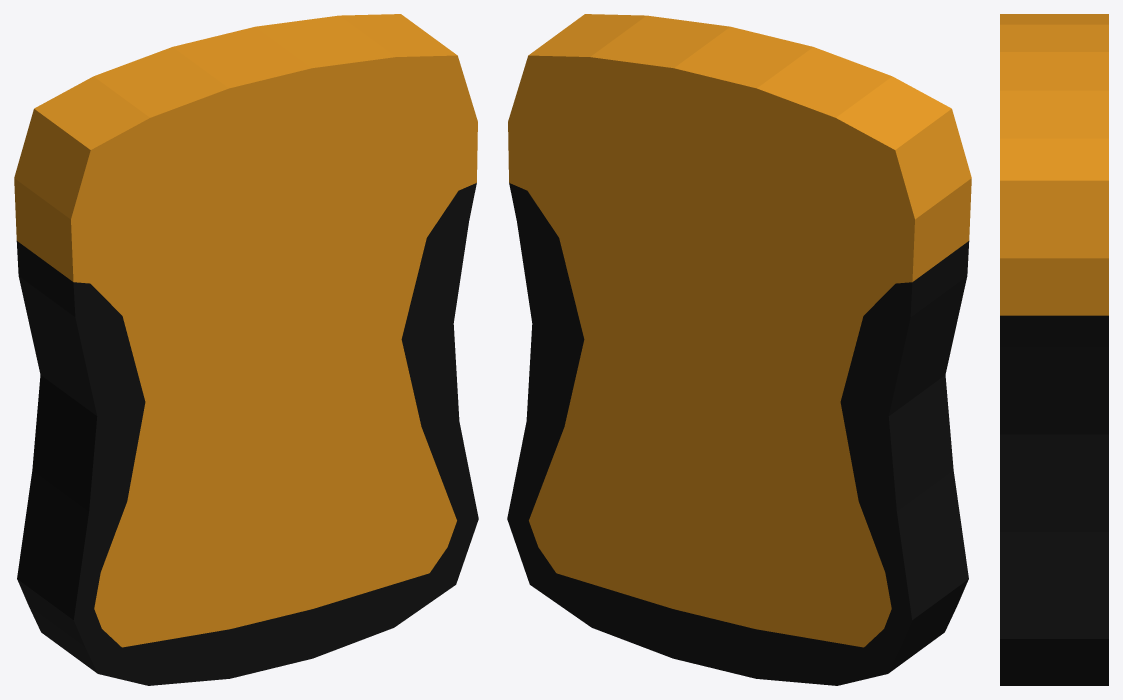
File: defib.fbx
3 views of the same model, side by side, from view 1: azimuth 30°, elevation 25°; view 2: azimuth 150°, elevation 25°; view 3: azimuth 270°, elevation 25° (orthographic). The views are drawn at different scales.
Visible parts, largest first — view 1: Cube; view 2: Cube; view 3: Cube.
Boxes of the visible parts, x1=… form: Cube: x1=14, y1=14, x2=478, y2=685; Cube: x1=507, y1=14, x2=971, y2=685; Cube: x1=1000, y1=14, x2=1108, y2=685.
Bounding box in the file's own units: 298 × 412 × 71.78.
